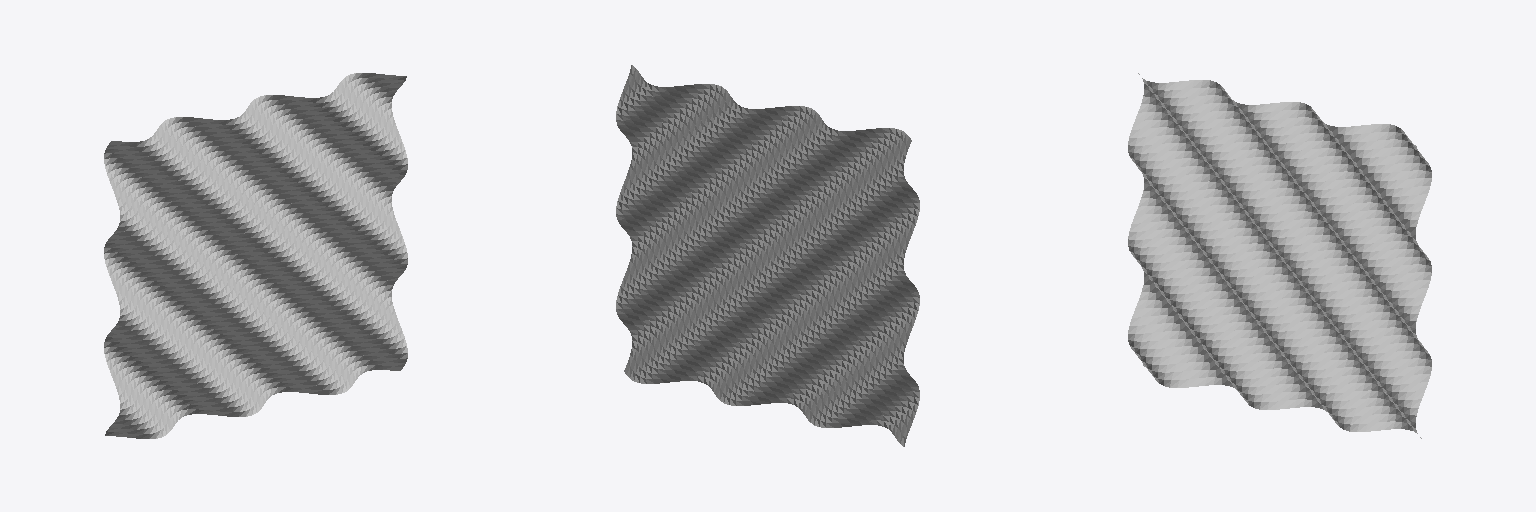
File: Sine.obj
3 renders of one model, left to right at view 1: azimuth 30°, elevation 25°; view 2: azimuth 150°, elevation 25°; view 3: azimuth 330°, elevation 25°, orthographic.
Parts seen in each view (by area): view 1: default_defaultMesh; view 2: default_defaultMesh; view 3: default_defaultMesh.
Part boxes in pixels (bbox=[...]): default_defaultMesh: bbox=[104, 73, 407, 438]; default_defaultMesh: bbox=[616, 65, 919, 446]; default_defaultMesh: bbox=[1128, 73, 1431, 438].
Size of the model in its own units: 0.2 by 0.2 by 0.02.